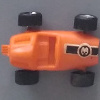carro: (5, 12, 98, 85)
